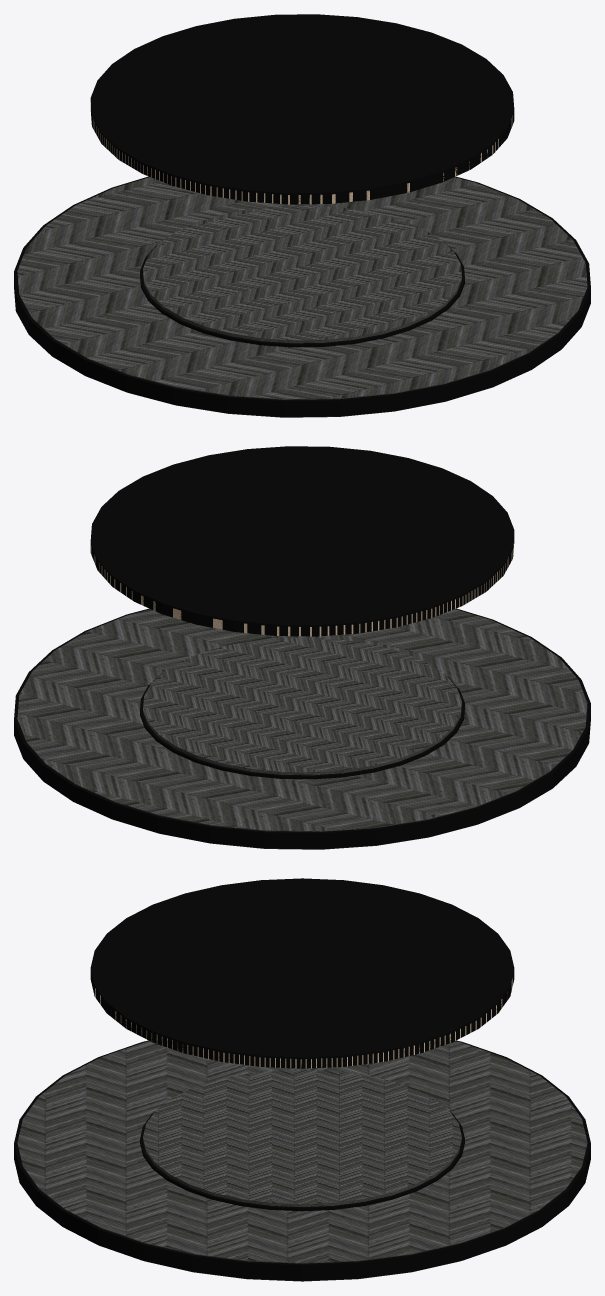
The model's file is bgv2_near.glb.
The picture shows the model from 3 angles, top to bottom: view 1: azimuth 30°, elevation 25°; view 2: azimuth 150°, elevation 25°; view 3: azimuth 270°, elevation 25°; orthographic projection.
Visible parts, largest first — view 1: Cylinder.009, Cylinder mask.001, Cylinder mask, Cylinder.005, Cylinder.004, Cube; view 2: Cylinder.009, Cylinder mask.001, Cylinder mask, Cylinder.005, Cylinder.004, Cube; view 3: Cylinder.009, Cylinder mask.001, Cylinder mask, Cylinder.005, Cylinder.004, Cube.
Boxes of the visible parts, x1,y1,x2,y2 form: Cylinder.009: (90, 14, 514, 204); Cylinder mask.001: (17, 177, 587, 417); Cylinder mask: (143, 205, 461, 343); Cylinder.005: (14, 176, 590, 417); Cylinder.004: (140, 241, 464, 347); Cube: (90, 102, 512, 204); Cylinder.009: (90, 446, 514, 636); Cylinder mask.001: (17, 609, 587, 849); Cylinder mask: (143, 637, 461, 775); Cylinder.005: (14, 608, 590, 849); Cylinder.004: (140, 673, 464, 779); Cube: (91, 543, 513, 636); Cylinder.009: (90, 878, 514, 1068); Cylinder mask.001: (17, 1041, 587, 1281); Cylinder mask: (143, 1069, 461, 1206); Cylinder.005: (14, 1040, 590, 1281); Cylinder.004: (140, 1111, 464, 1211); Cube: (95, 978, 512, 1068).
Size of the model in its own units: 9.52 by 3.52 by 9.52.
Materials: 5 (4 with a texture image).
